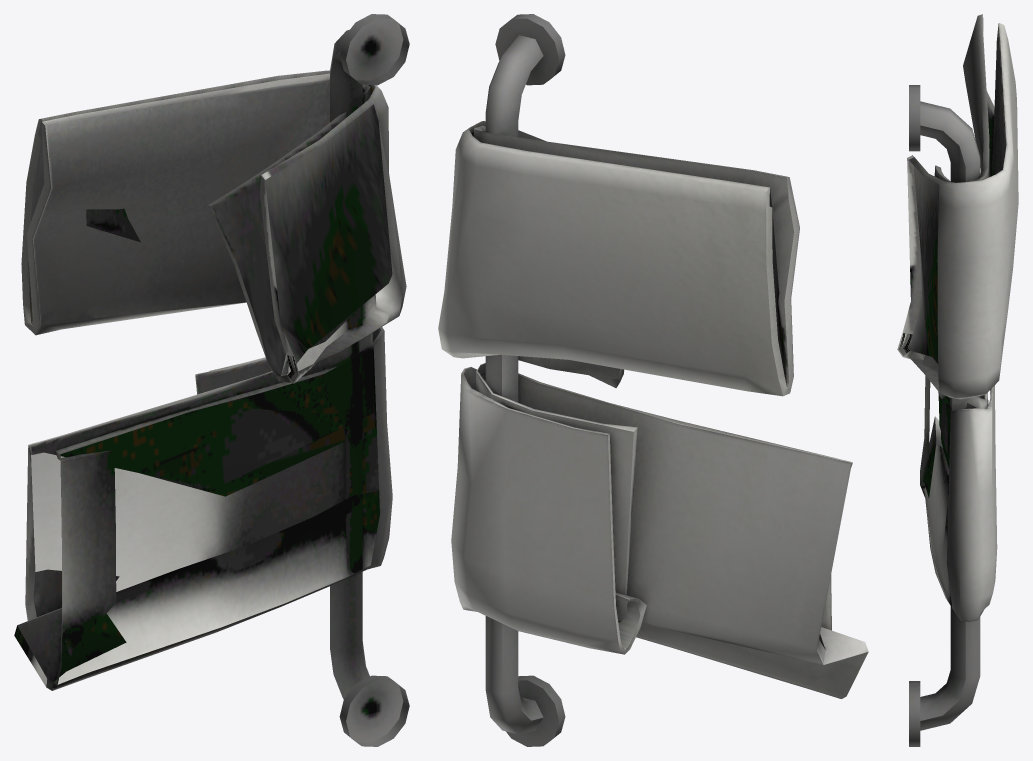
The model's file is props_gameplay_towel_rack.glb.
3 views of the same model, side by side, from view 1: azimuth 30°, elevation 25°; view 2: azimuth 150°, elevation 25°; view 3: azimuth 270°, elevation 25° (orthographic). The views are drawn at different scales.
Parts seen in each view (by area): view 1: models/props_gameplay/towel_rack; view 2: models/props_gameplay/towel_rack; view 3: models/props_gameplay/towel_rack.
Boxes of the visible parts, bbox=[...] form: models/props_gameplay/towel_rack: bbox=[14, 14, 409, 746]; models/props_gameplay/towel_rack: bbox=[438, 14, 868, 746]; models/props_gameplay/towel_rack: bbox=[897, 14, 1018, 746].
Size of the model in its own units: 37.01 by 63.85 by 10.71.
Materials: 1 (1 with a texture image).
